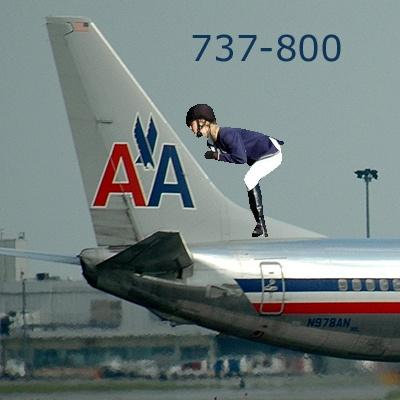tampered: (187, 105, 284, 237)
